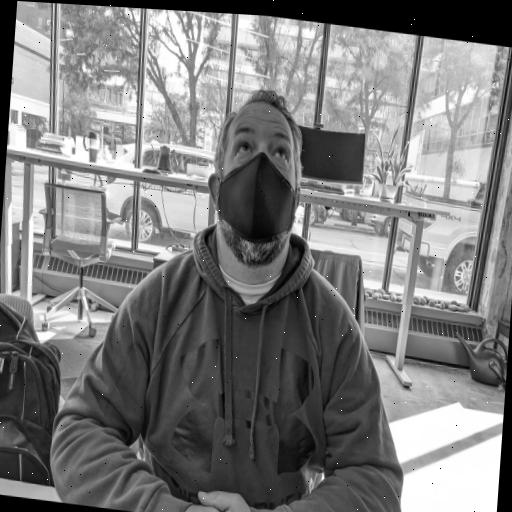mask: (208, 106, 304, 271)
